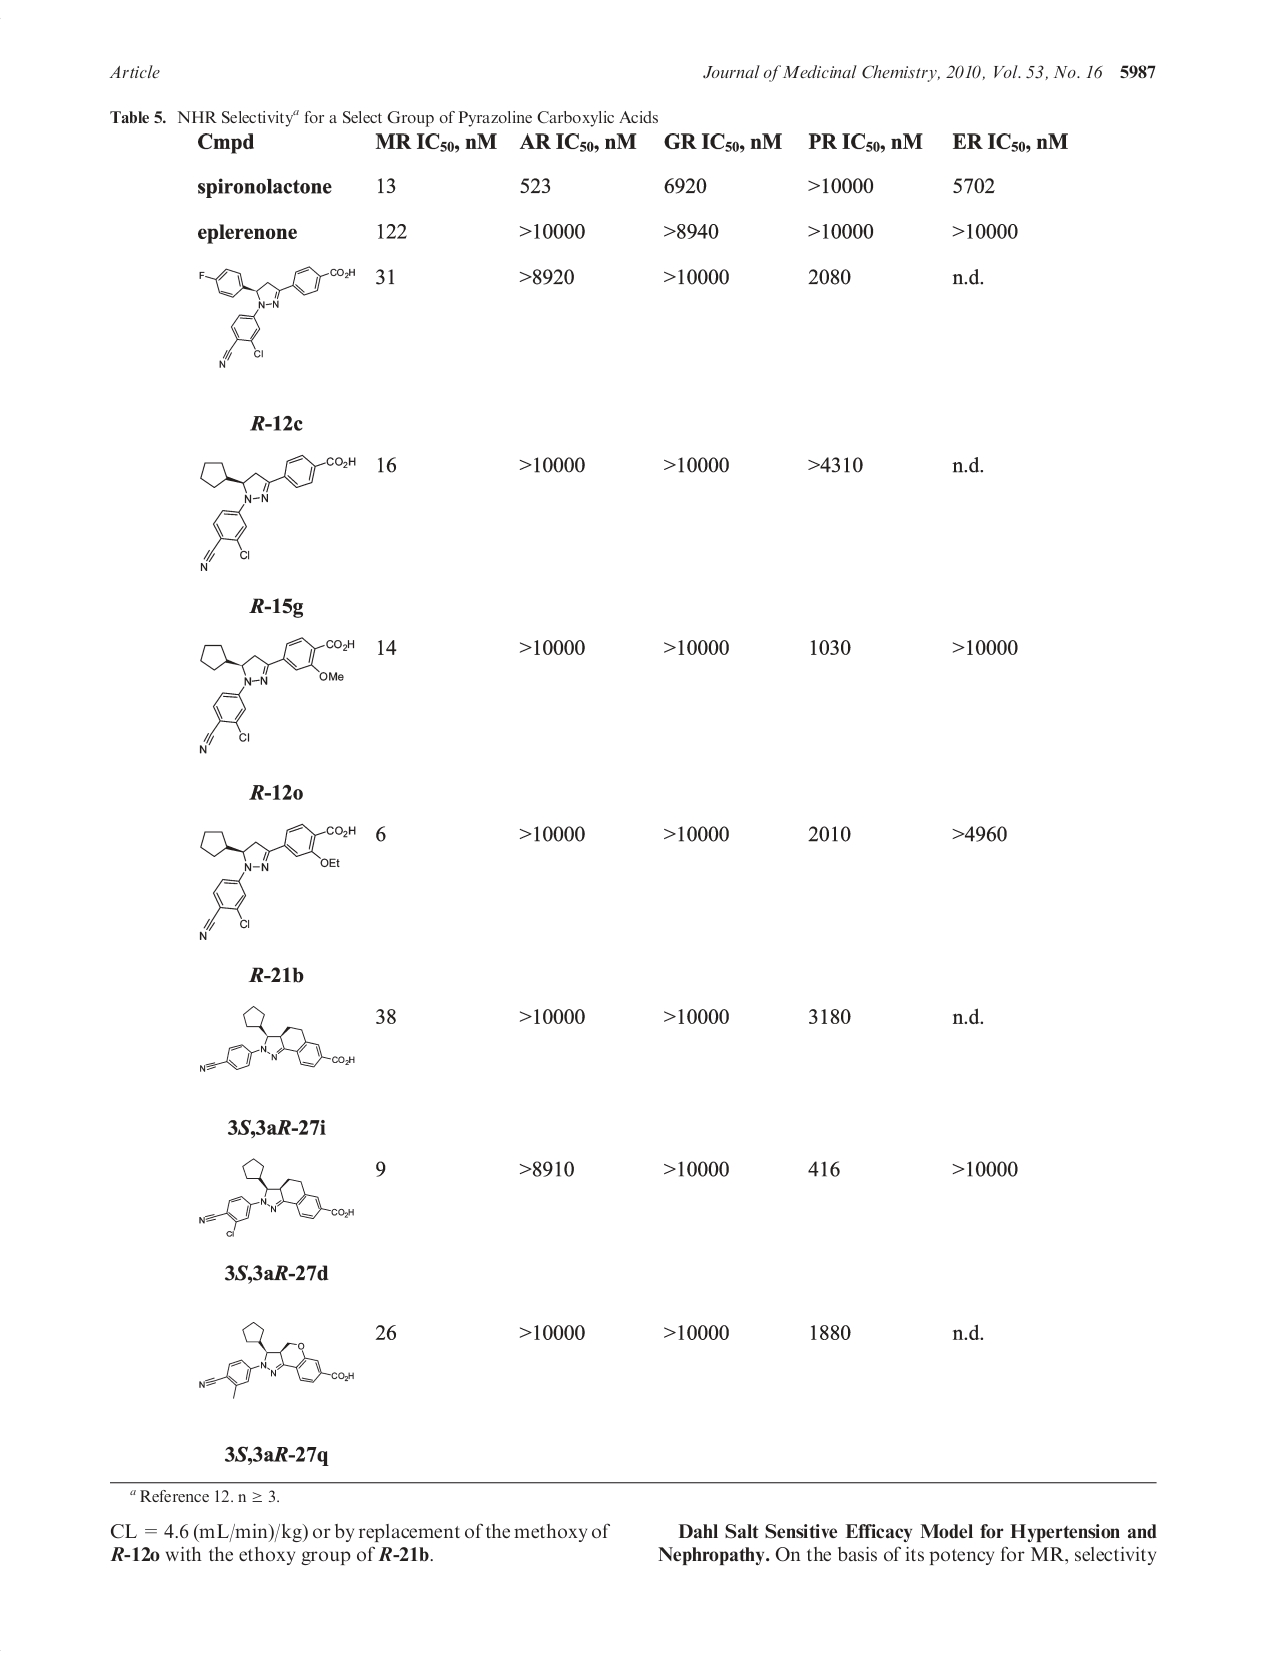exist_molecular: (195, 636, 358, 757), (195, 823, 358, 943), (195, 453, 356, 573), (195, 266, 358, 370), (198, 1154, 356, 1239), (198, 1319, 356, 1400), (198, 1005, 356, 1075)
